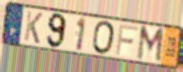1: (75, 17, 87, 53)
9: (46, 13, 69, 50)
F: (114, 23, 139, 57)
K: (23, 9, 44, 45)
M: (135, 24, 166, 65)
O: (91, 20, 116, 56)
